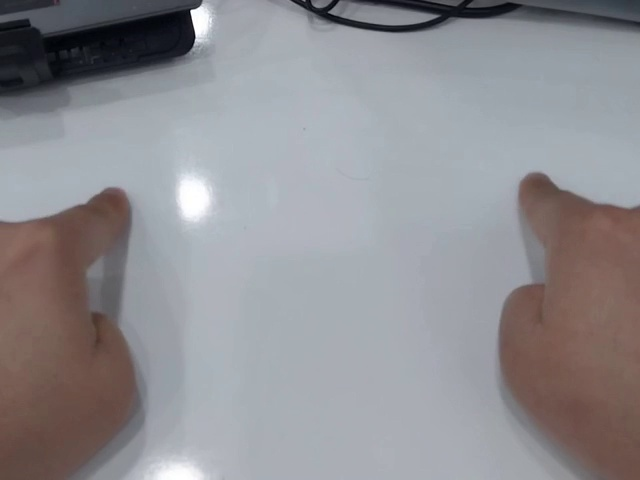fingers: (89, 185, 132, 234), (518, 170, 559, 214)
